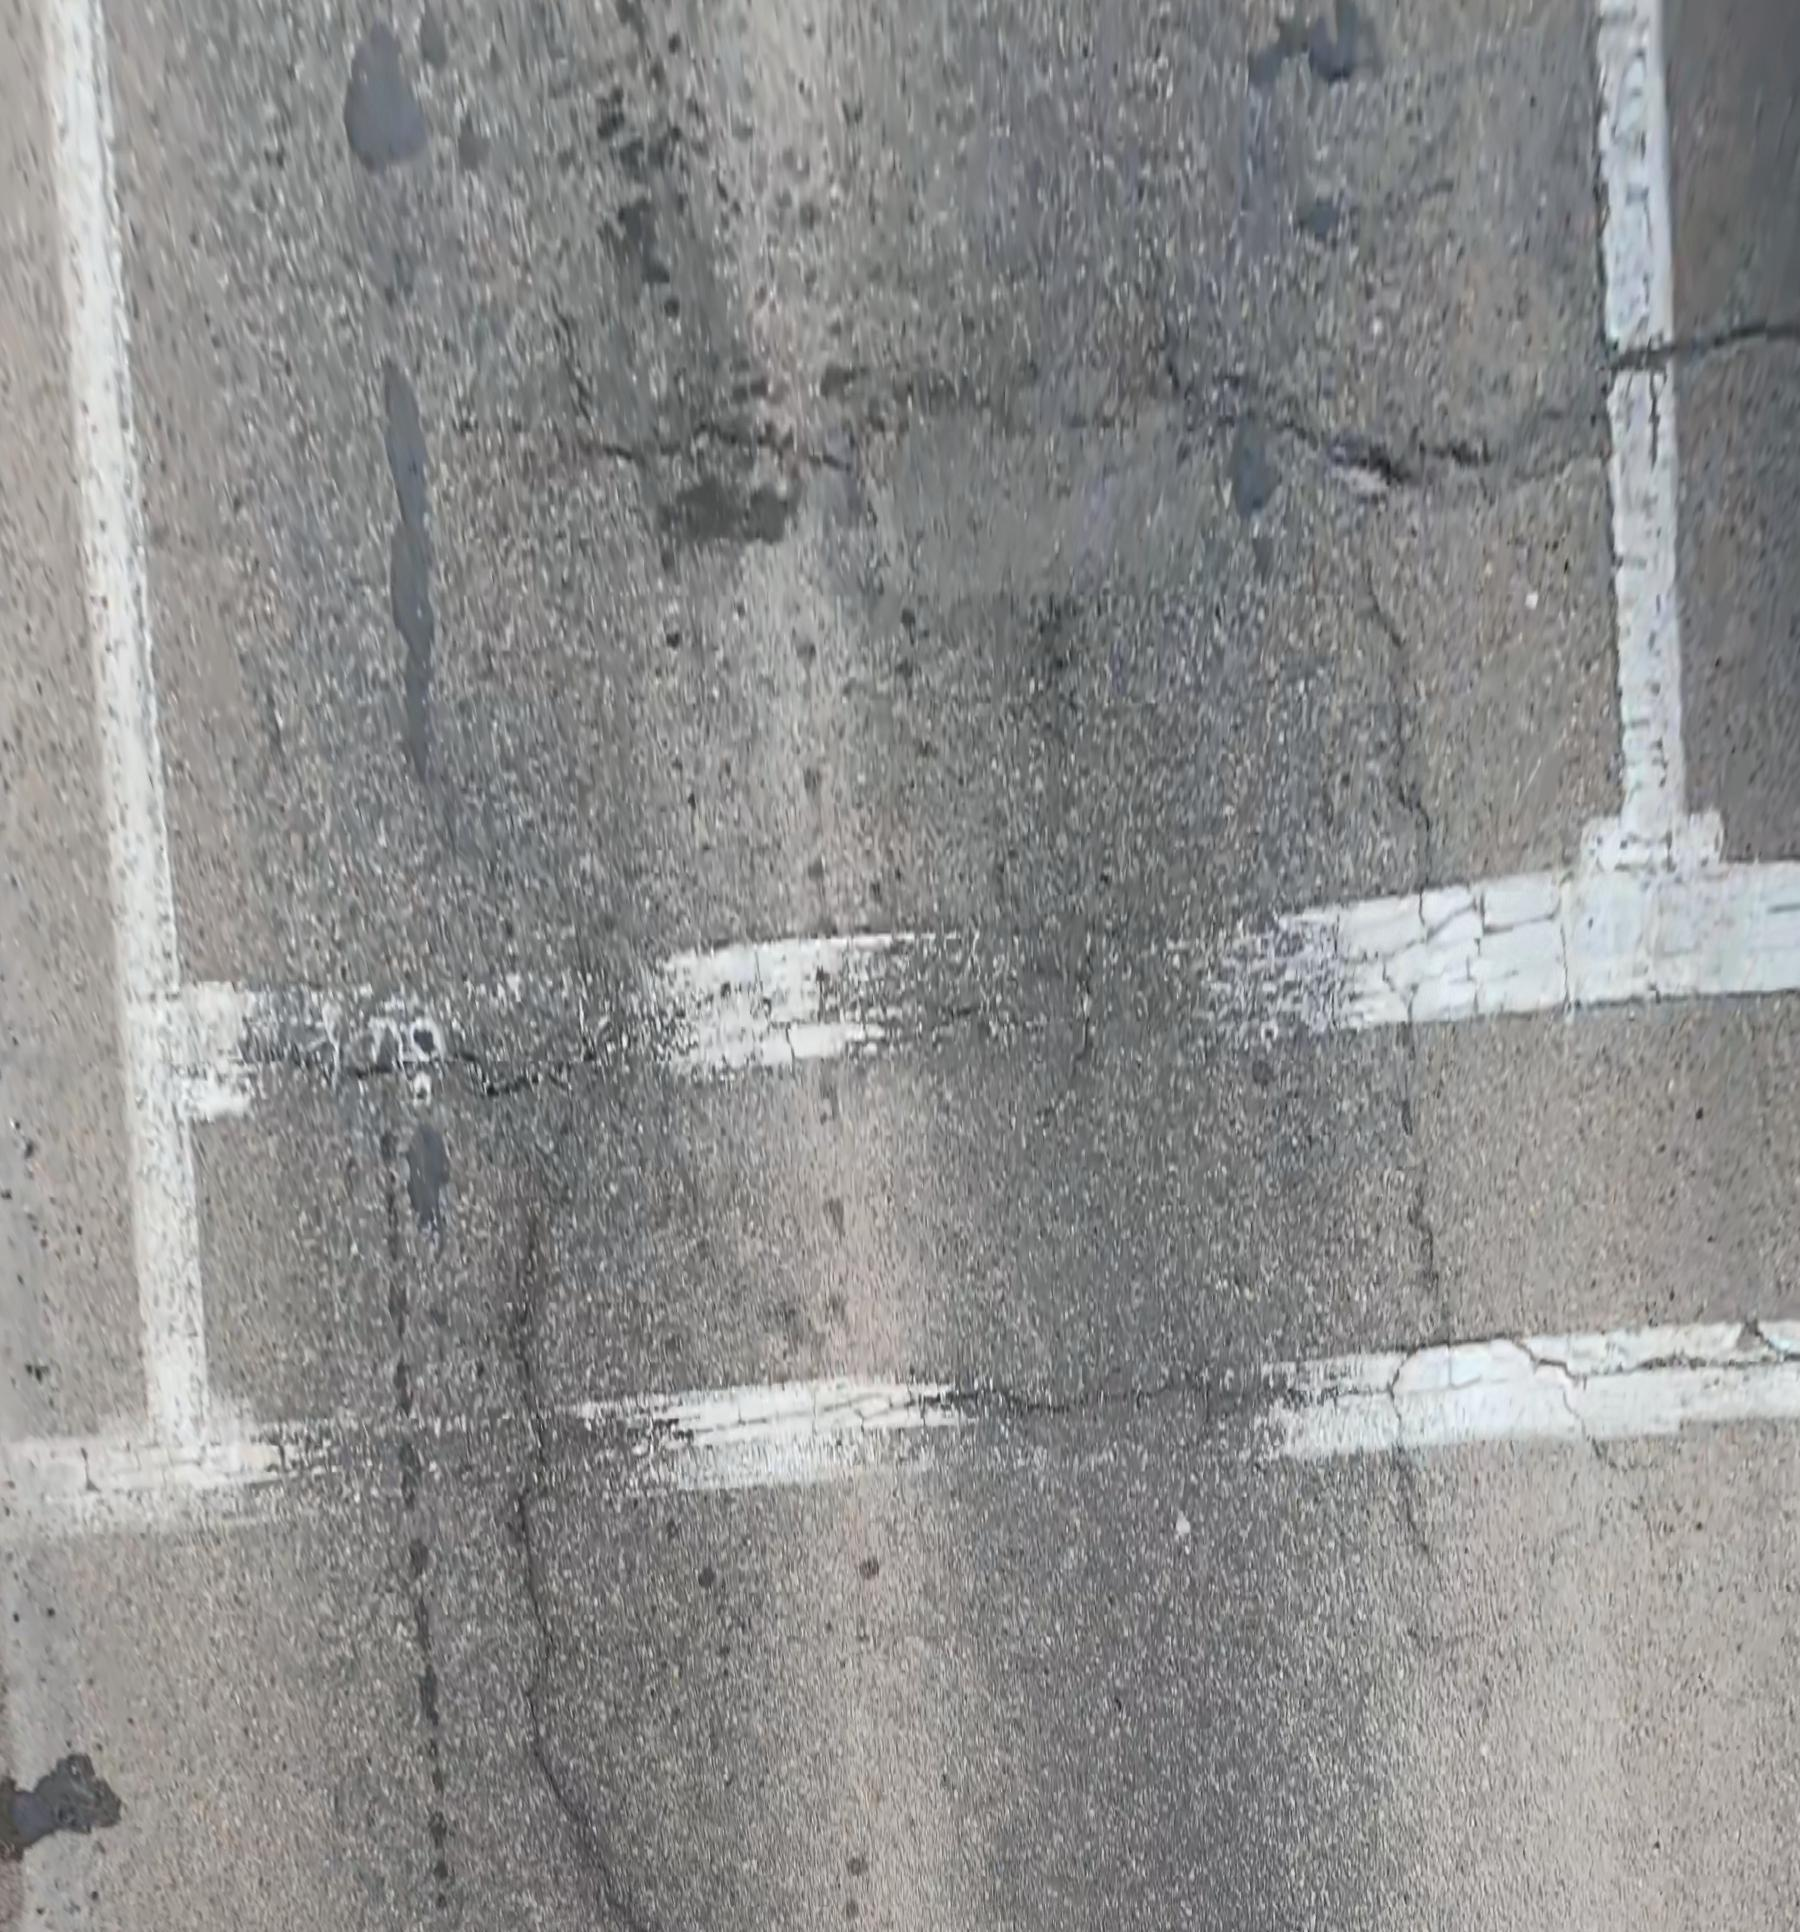pothole_patch_good: (826, 364, 1336, 621)
